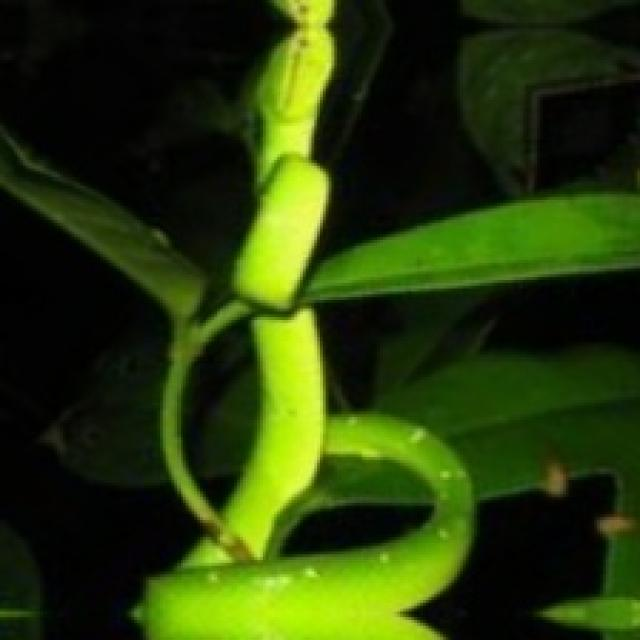north ph temple pitviper: (140, 0, 471, 637)
